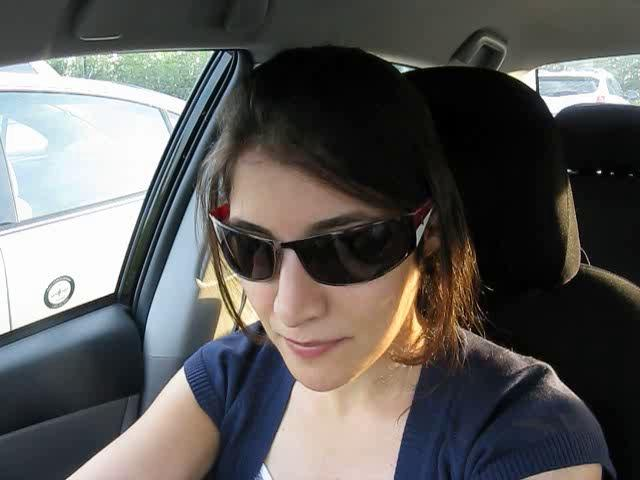no_yawn: (269, 321, 362, 367)
